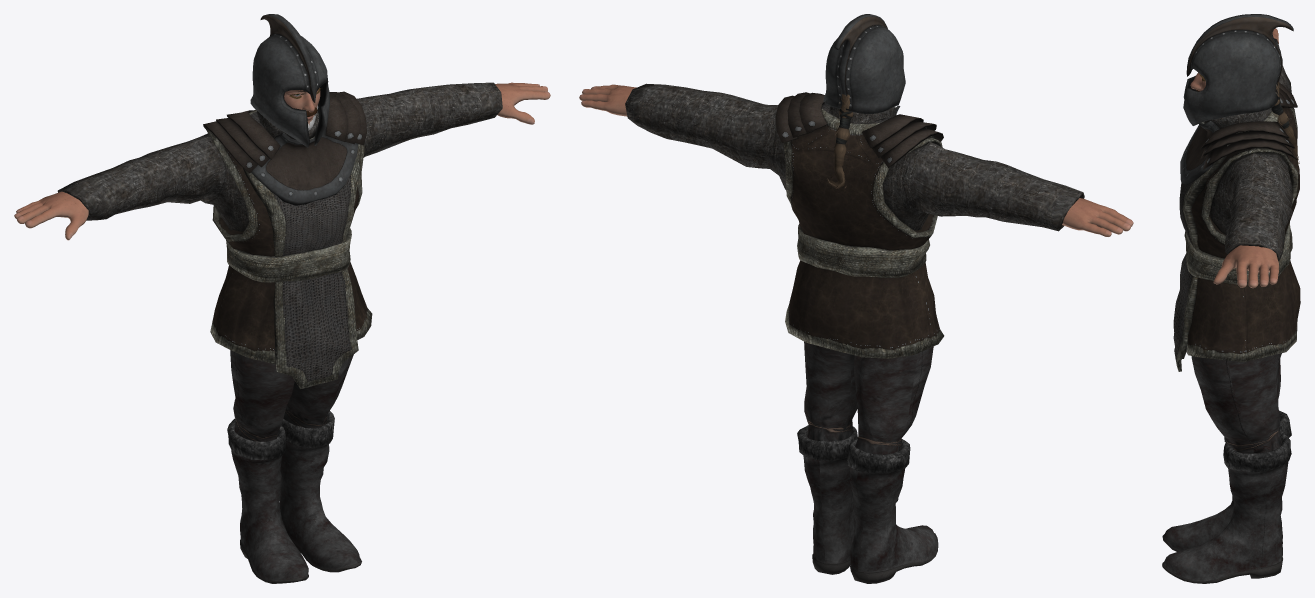
Rendered from Viking 1 H.obj.
3 views of the same model, side by side, from view 1: azimuth 30°, elevation 25°; view 2: azimuth 150°, elevation 25°; view 3: azimuth 270°, elevation 25° (orthographic). The views are drawn at different scales.
Parts seen in each view (by area): view 1: Tops, Shoes, Hats, Bottoms, Body; view 2: Tops, Shoes, Bottoms, Hats, Body, Hair; view 3: Tops, Shoes, Hats, Bottoms, Body, Hair.
Boxes of the visible parts, box(x1,y1,x2,y2) form: Tops: box(57, 82, 502, 388); Shoes: box(227, 411, 361, 583); Hats: box(250, 14, 329, 147); Bottoms: box(230, 350, 353, 441); Body: box(14, 82, 550, 240); Tops: box(625, 83, 1084, 358); Shoes: box(797, 425, 938, 583); Bottoms: box(804, 341, 933, 454); Hats: box(823, 14, 905, 113); Body: box(579, 84, 1133, 236); Hair: box(827, 94, 853, 188); Tops: box(1173, 38, 1300, 371); Shoes: box(1162, 410, 1291, 583); Hats: box(1183, 14, 1293, 125); Bottoms: box(1191, 353, 1282, 453); Body: box(1190, 28, 1279, 288); Hair: box(1271, 82, 1299, 163).
Size of the model in its own units: 192 by 184 by 42.33.
